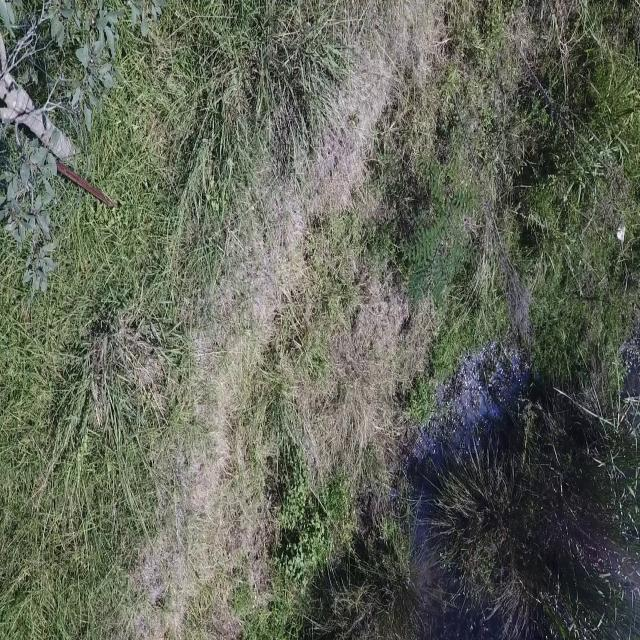Mysore-Thorn-Weed: (405, 169, 474, 305)
